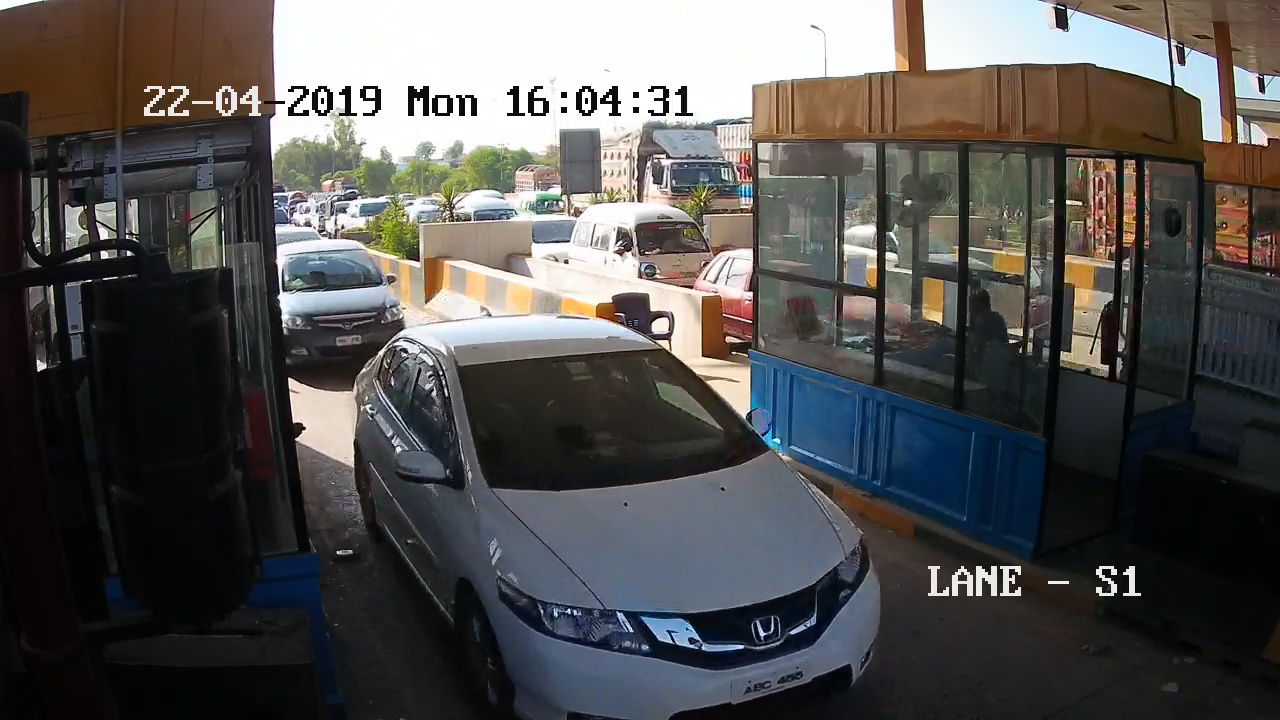Number Plate (Car): (731, 669, 814, 696)
